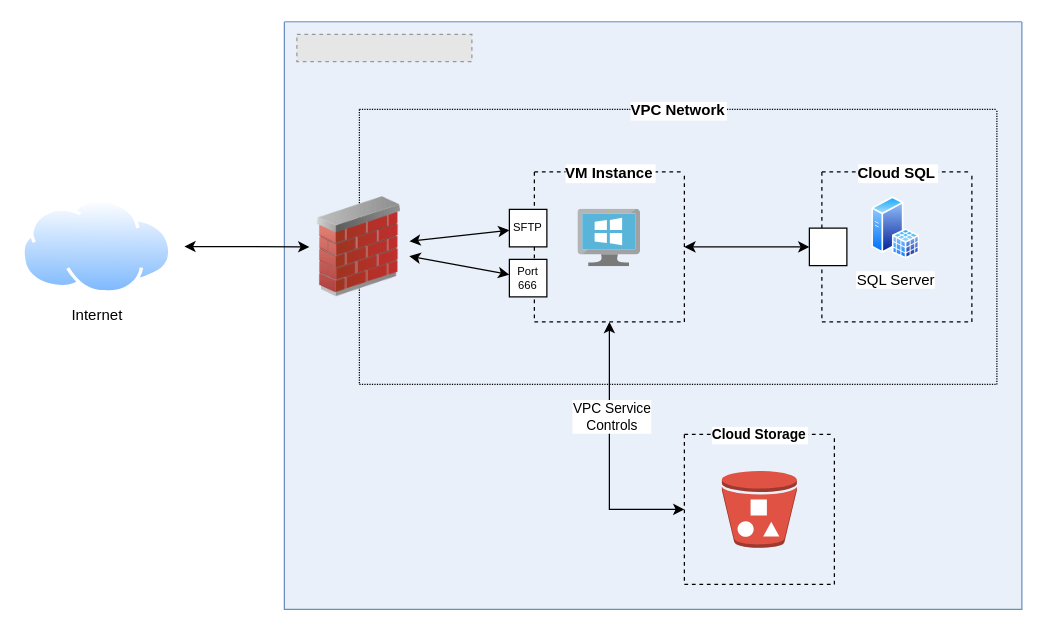
Image size: 1044x631. Some labels were removed from this diagram. Grey dashed boxes stand in for pictures. Each missing label, with the centre of its shape:
Bucket: point 759,509
Firewall Rules: point 359,246
Port 1433: point 827,246
Windows Server: point 609,237
